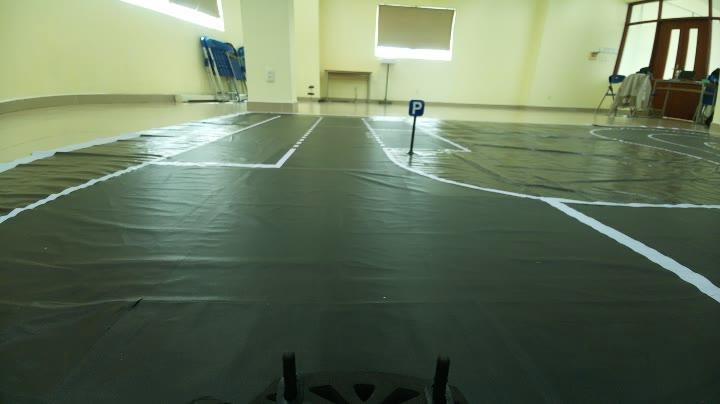parking: (406, 91, 432, 120)
